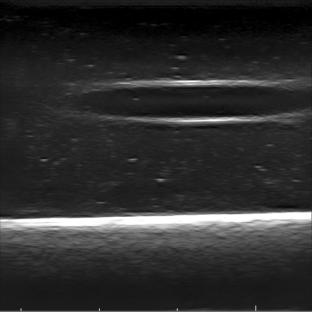vessel: (82, 77, 311, 126)
